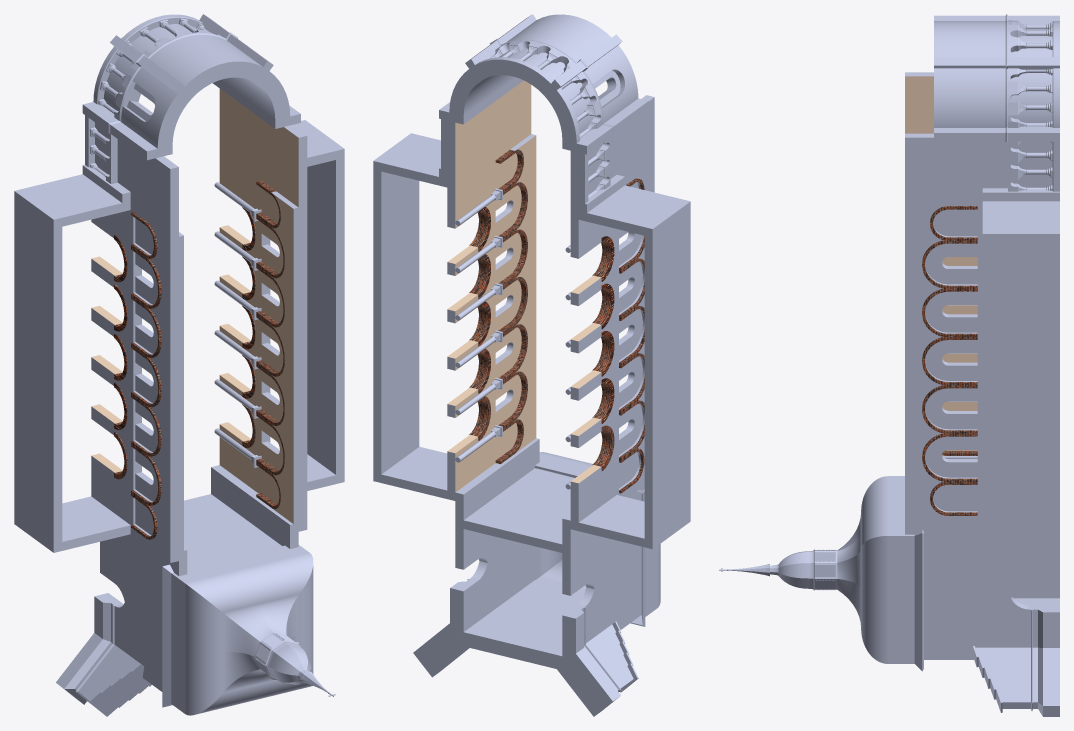
The model's file is main.gltf.
The picture shows the model from 3 angles, left to right: view 1: azimuth 30°, elevation 25°; view 2: azimuth 150°, elevation 25°; view 3: azimuth 270°, elevation 25°; orthographic projection. The views are drawn at different scales.
Visible parts, largest first — view 1: nef-1, tour-1, Abside-1, pilier-1, pilier droit-1; view 2: nef-1, tour-1, Abside-1, pilier-1, pilier droit-1; view 3: nef-1, tour-1, Abside-1, pilier-1, pilier droit-1.
Part boxes in pixels (x1,y1,x2,y2): nef-1: (14,89,344,575); tour-1: (56,494,335,716); Abside-1: (82,14,300,160); pilier-1: (98,18,221,120); pilier droit-1: (90,127,117,183); nef-1: (373,80,690,554); tour-1: (413,452,660,716); Abside-1: (439,14,648,154); pilier-1: (490,40,602,139); pilier droit-1: (588,137,610,198); nef-1: (905,72,1059,560); tour-1: (719,476,1059,716); Abside-1: (934,14,1059,141); pilier-1: (1008,20,1052,127); pilier droit-1: (1008,141,1052,191).
Size of the model in its own units: 34 by 74.02 by 35.21.
Materials: 8 (5 with a texture image).
